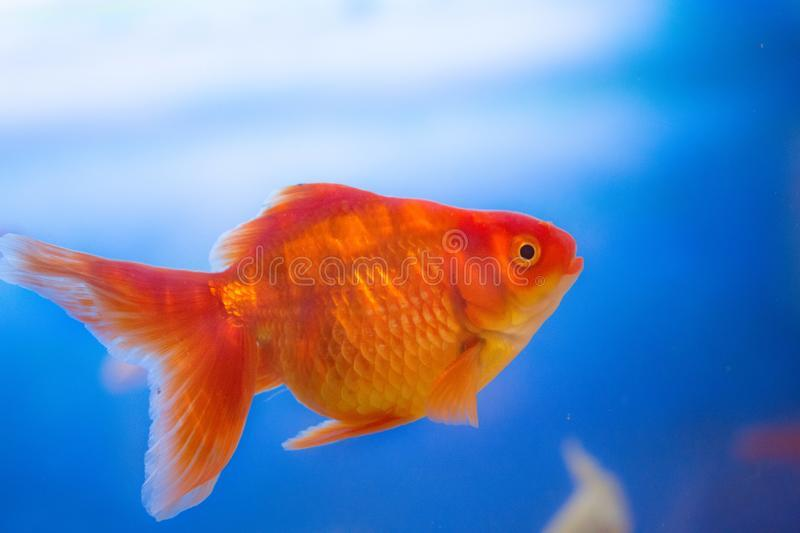Gold Fish: (2, 180, 583, 520)
